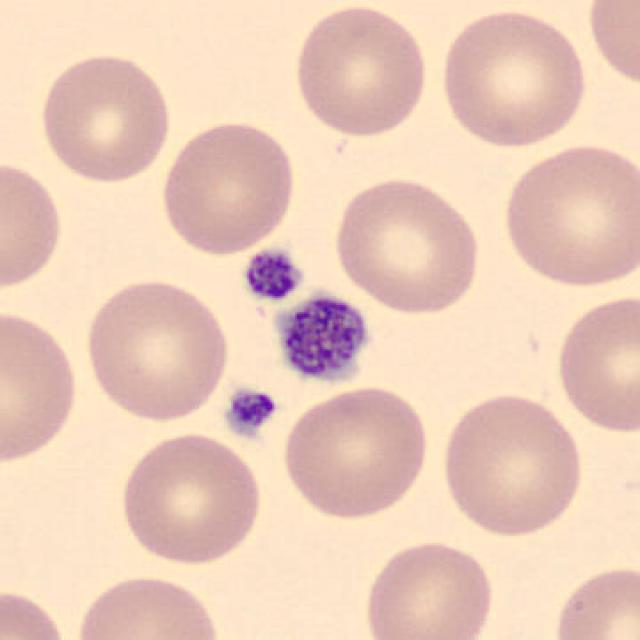Platelets: (272, 291, 373, 388), (238, 247, 308, 305), (221, 384, 279, 439)
RBC: (80, 273, 233, 425), (436, 5, 592, 150), (437, 390, 587, 540), (329, 173, 485, 317), (277, 382, 434, 522), (498, 137, 636, 291), (116, 428, 266, 568), (156, 115, 298, 258), (288, 0, 432, 141), (36, 48, 176, 185), (359, 536, 498, 640), (0, 303, 84, 467), (551, 289, 638, 437), (71, 569, 226, 640), (0, 155, 68, 293), (547, 560, 638, 640), (583, 0, 640, 92), (0, 583, 74, 640)
